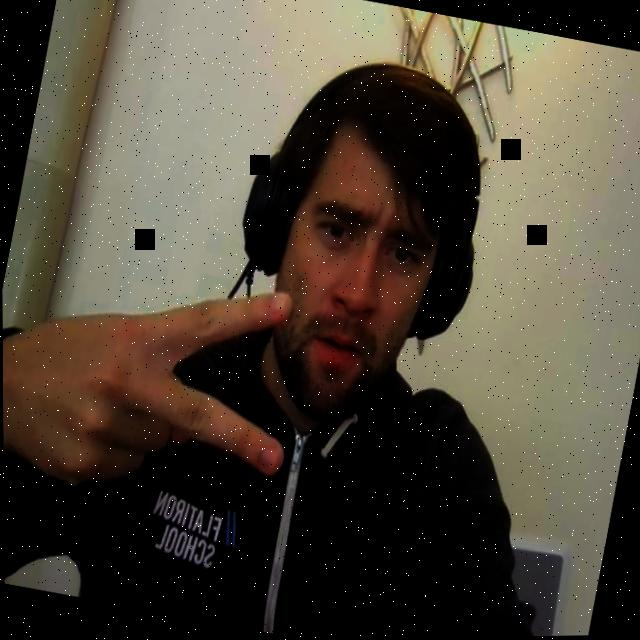Scissors: (1, 227, 315, 542)
